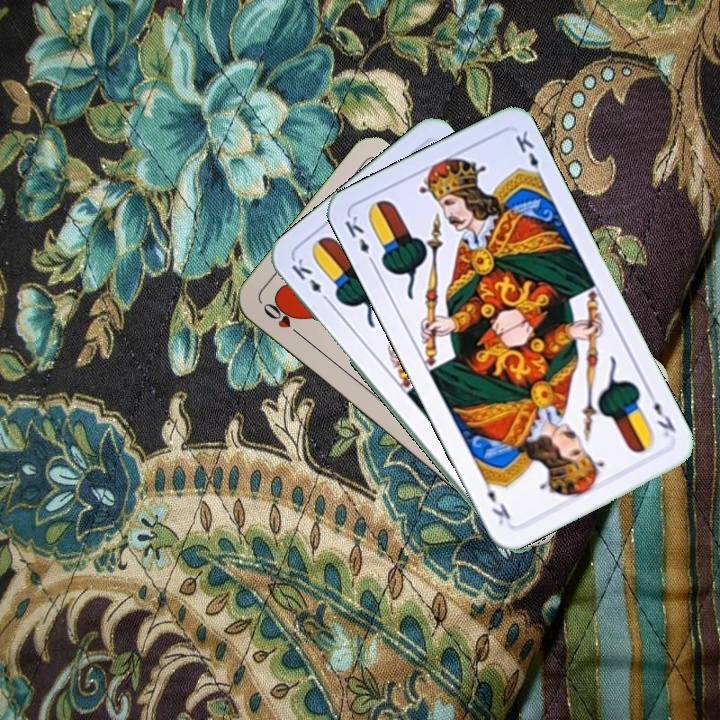EK: (287, 254, 333, 306), (340, 211, 378, 269), (643, 387, 679, 439)
HO: (258, 298, 307, 342)
